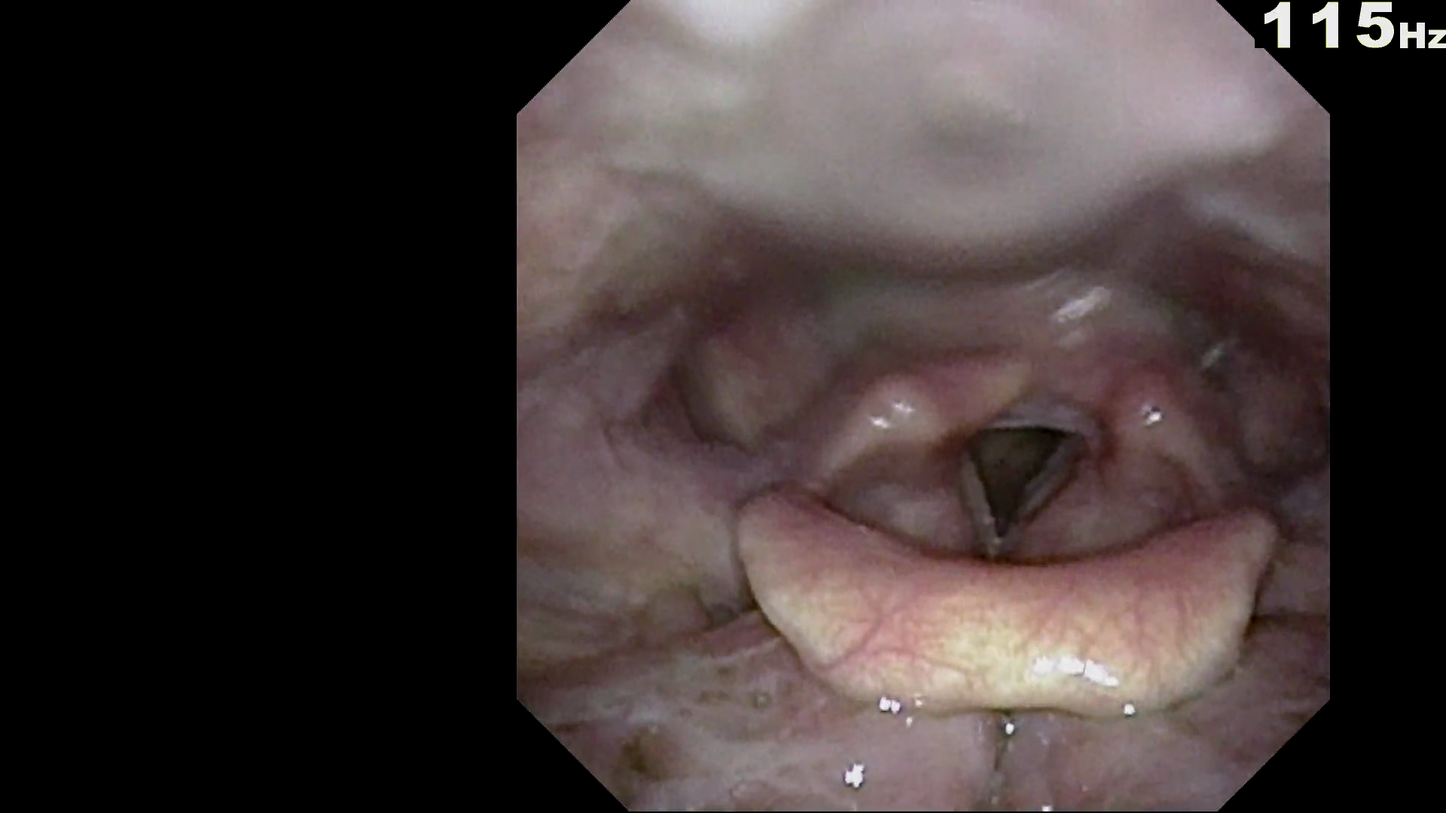epiglottis: (690, 518, 1299, 690)
trachea: (953, 405, 1085, 557)
